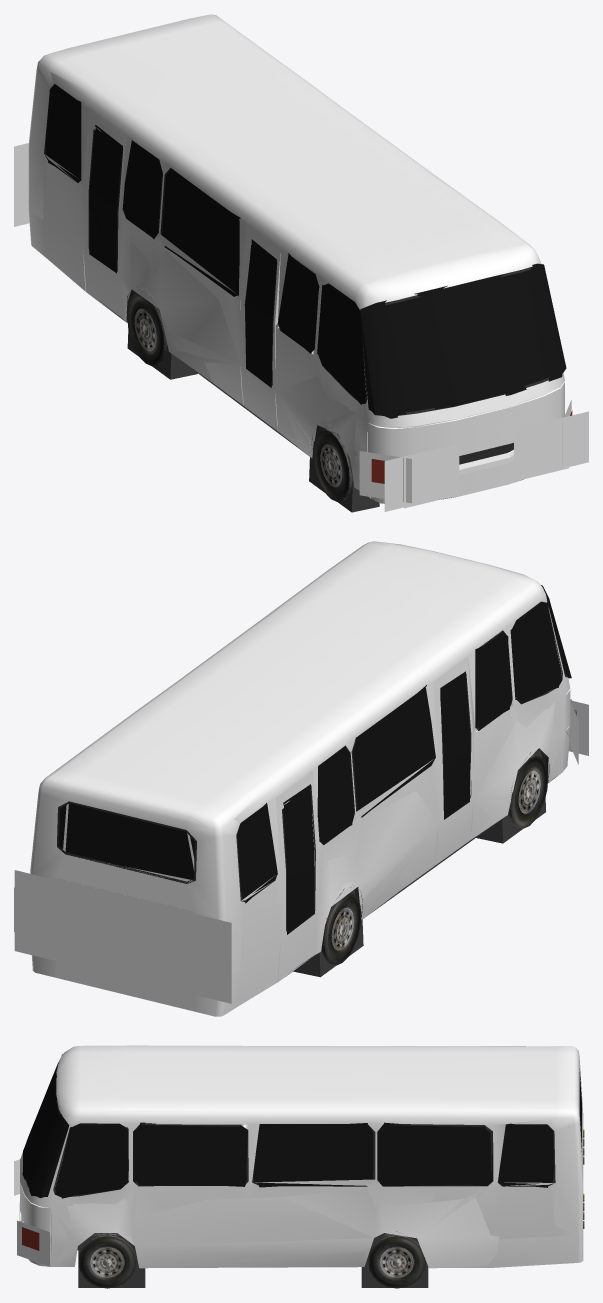
File: BogdanBusTraffic.fbx
The picture shows the model from 3 angles, top to bottom: view 1: azimuth 30°, elevation 25°; view 2: azimuth 150°, elevation 25°; view 3: azimuth 270°, elevation 25°; orthographic projection. The views are drawn at different scales.
Visible parts, largest first — view 1: body (×3), front_lights_flare, TireFR, TireRR, rturns_lights_flare (×2), box_wheels; view 2: body (×3), rear_lights_flare, lturns_lights_flare, TireRR, TireFR, box_wheels, front_lights_flare; view 3: body (×3), TireFL, TireRL, box_wheels, lturns_lights_flare (×2).
Boxes of the visible parts, x1,y1,x2,y2 form: body (×3): (28, 14, 566, 503); front_lights_flare: (384, 411, 588, 511); TireFR: (312, 429, 352, 501); TireRR: (127, 294, 167, 365); rturns_lights_flare (×2): (14, 157, 411, 503); box_wheels: (127, 291, 379, 512); body (×3): (30, 541, 571, 1016); rear_lights_flare: (14, 870, 231, 1003); lturns_lights_flare: (14, 887, 62, 943); TireRR: (321, 893, 361, 965); TireFR: (508, 755, 548, 828); box_wheels: (293, 748, 545, 977); front_lights_flare: (568, 699, 588, 755); body (×3): (19, 1045, 584, 1268); TireFL: (78, 1233, 136, 1288); TireRL: (368, 1233, 425, 1288); box_wheels: (78, 1233, 428, 1287); lturns_lights_flare (×2): (17, 1220, 49, 1266).
Size of what is drawn, in the model's own units: 2.45 by 2.48 by 7.24.
Materials: 11 (7 with a texture image).
